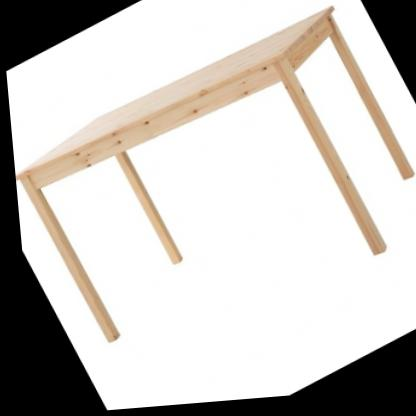Table: (0, 0, 416, 399)
